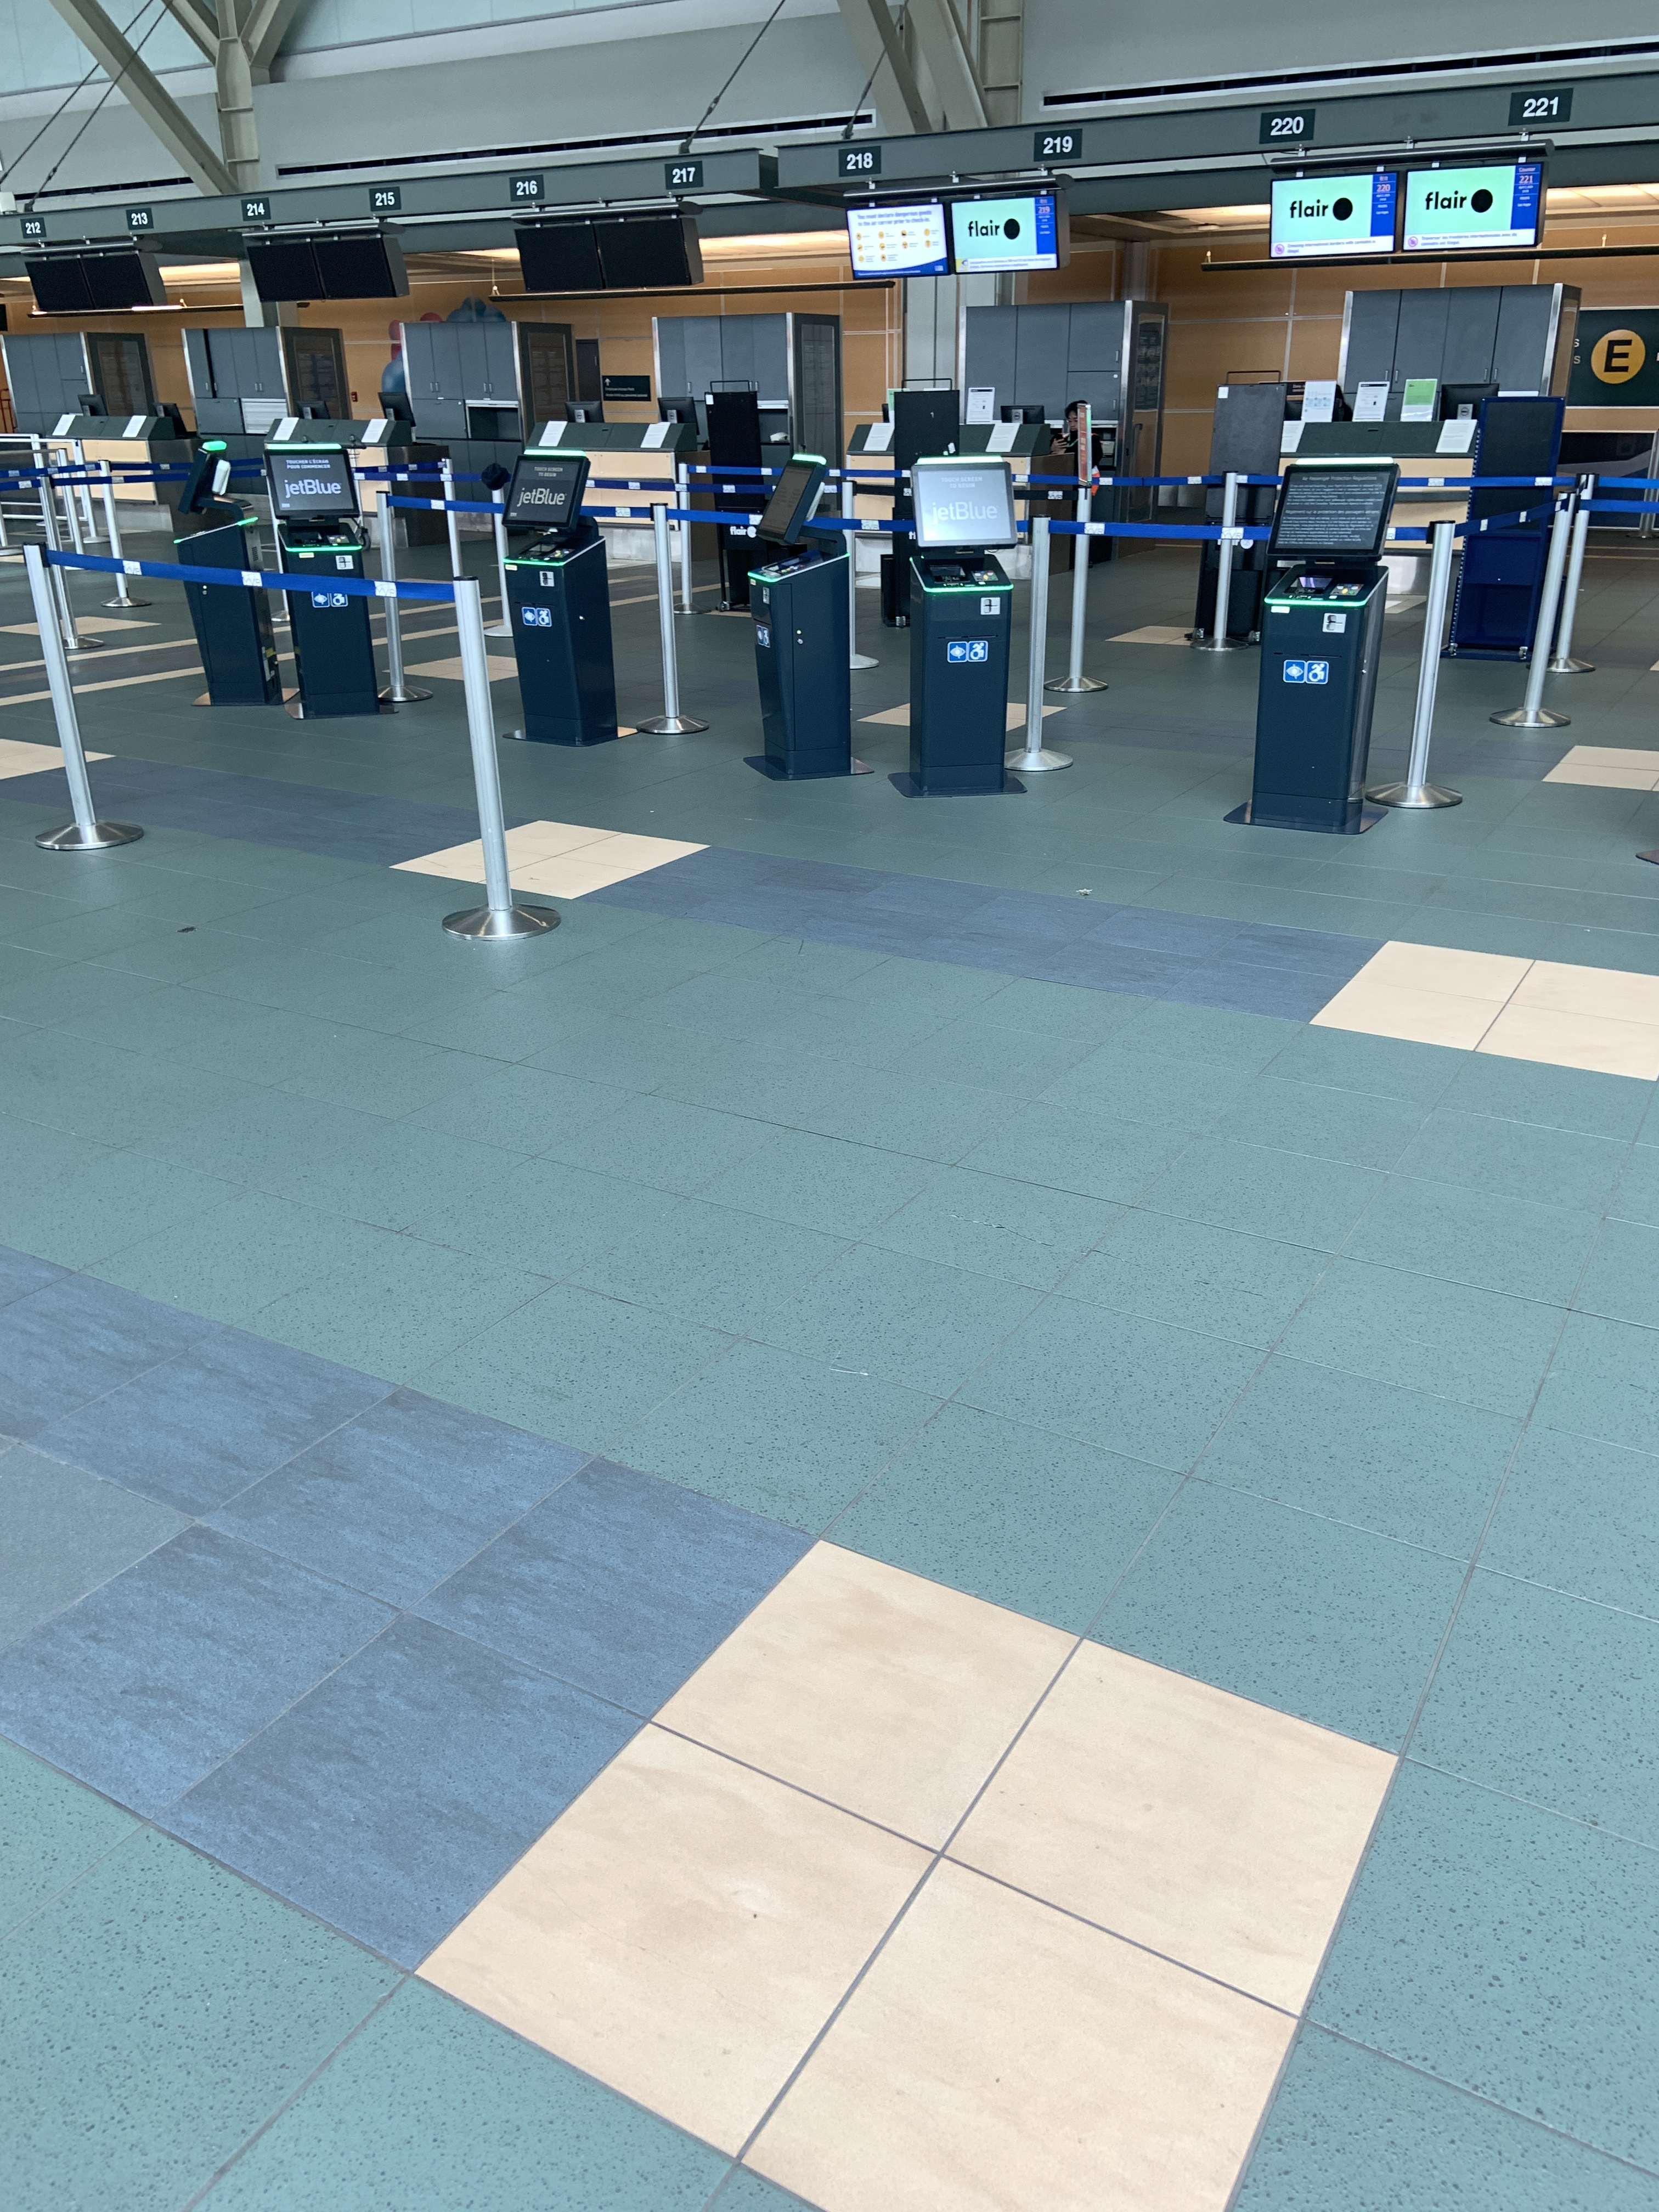Defect: (824, 1353, 903, 1392)
Garbage: (1063, 871, 1126, 904)
